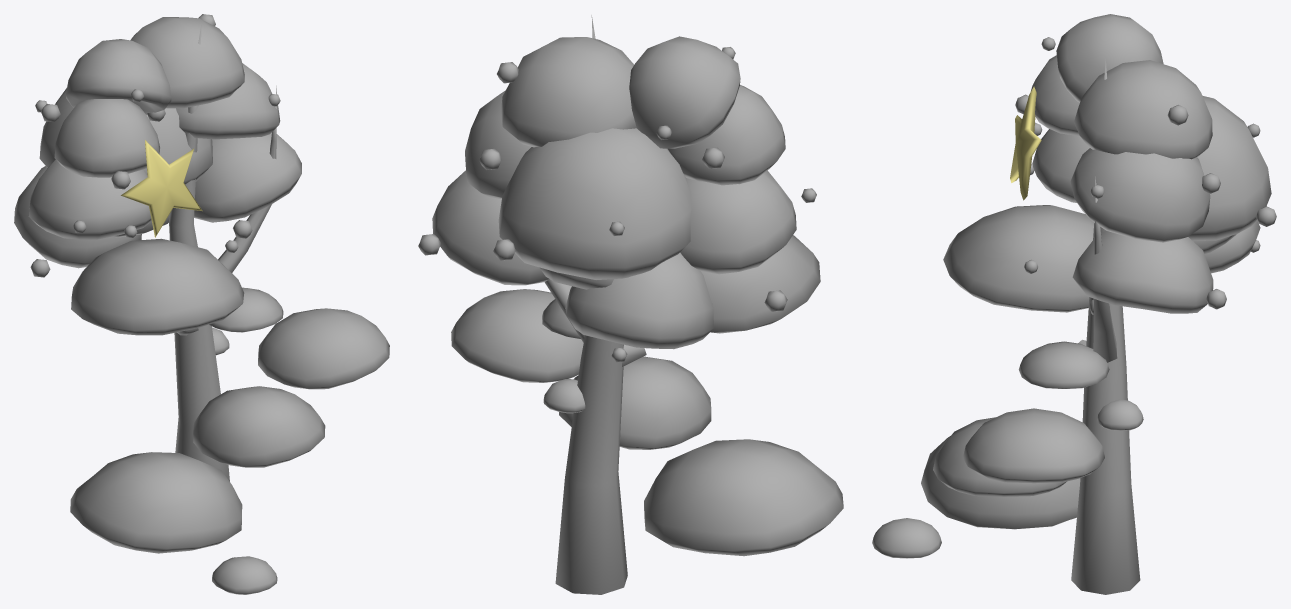
The model's file is star_candy_tree.fbx.
3 renders of one model, left to right at view 1: azimuth 30°, elevation 25°; view 2: azimuth 150°, elevation 25°; view 3: azimuth 270°, elevation 25°, orthographic. The views are drawn at different scales.
Parts seen in each view (by area): view 1: body, foothold1, foothold5, foothold2, foothold3, star_candy, foothold4; view 2: body, foothold1, foothold3, foothold2, foothold5, foothold4; view 3: body, foothold5, foothold3, foothold1, foothold4, foothold2, star_candy.
Boxes of the visible parts, x1,y1,x2,y2 form: body: (14, 14, 301, 594); foothold1: (70, 452, 242, 553); foothold5: (71, 238, 244, 335); foothold2: (193, 386, 325, 467); foothold3: (258, 308, 389, 389); star_candy: (121, 140, 202, 237); foothold4: (209, 287, 283, 332); body: (418, 15, 816, 594); foothold1: (644, 439, 843, 556); foothold3: (451, 289, 583, 382); foothold2: (559, 356, 711, 449); foothold5: (701, 235, 820, 333); foothold4: (542, 299, 580, 338); body: (872, 14, 1276, 594); foothold5: (943, 205, 1094, 312); foothold3: (963, 408, 1104, 483); foothold1: (921, 436, 1080, 529); foothold4: (1018, 341, 1109, 388); foothold2: (933, 417, 1066, 496); star_candy: (1010, 86, 1041, 200).
Size of the model in its own units: 80.27 by 119 by 83.64.
